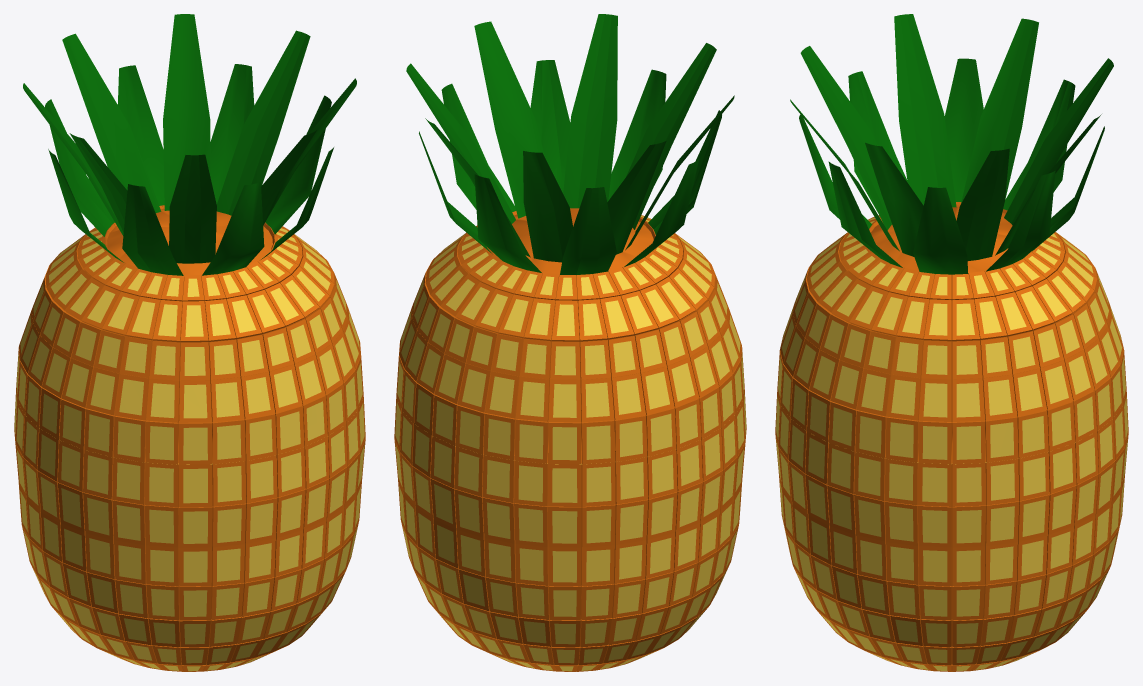
Rendered from Fruit_Pineapple_Sliced.fbx.
3 views of the same model, side by side, from view 1: azimuth 30°, elevation 25°; view 2: azimuth 150°, elevation 25°; view 3: azimuth 270°, elevation 25° (orthographic).
Visible parts, largest first — view 1: Pineapple_Top, Pineapple_Bottom; view 2: Pineapple_Top, Pineapple_Bottom; view 3: Pineapple_Top, Pineapple_Bottom.
Part boxes in pixels (x1,y1,x2,y2): Pineapple_Top: (16, 14, 363, 464); Pineapple_Bottom: (14, 388, 365, 671); Pineapple_Top: (396, 14, 744, 464); Pineapple_Bottom: (394, 389, 746, 671); Pineapple_Top: (777, 14, 1126, 464); Pineapple_Bottom: (775, 392, 1128, 671).
Bounding box in the file's own units: 120 × 212 × 120.
